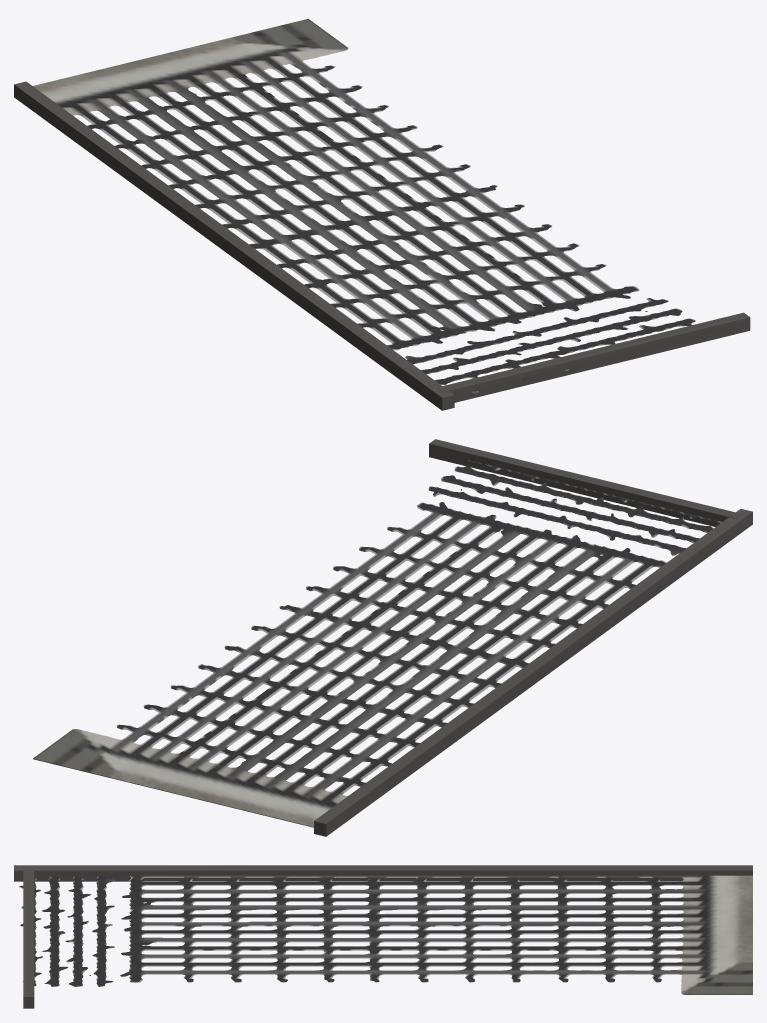
Rendered from pz_fence_png_fencing_01_48.obj.
The picture shows the model from 3 angles, top to bottom: view 1: azimuth 30°, elevation 25°; view 2: azimuth 150°, elevation 25°; view 3: azimuth 270°, elevation 25°; orthographic projection. The views are drawn at different scales.
Bounding box in the file's own units: 1.02 × 0.042 × 2.41.
1 material, 1 textured.
